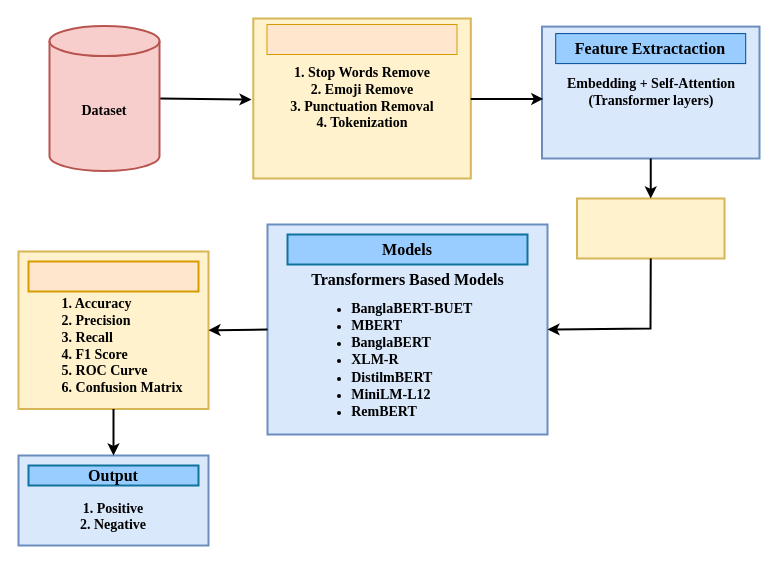
The diagram is 777 pixels wide and 563 high, and some of its shapes have lost their labels. The shapes that lost their labels are listed below. From the top down, each one's centre as x and y in pixels, then its label:
At pixel 361 39: "Data Preprocessing".
At pixel 650 228: "Data Split (80:20)".
At pixel 113 276: "Model Evaluation".
